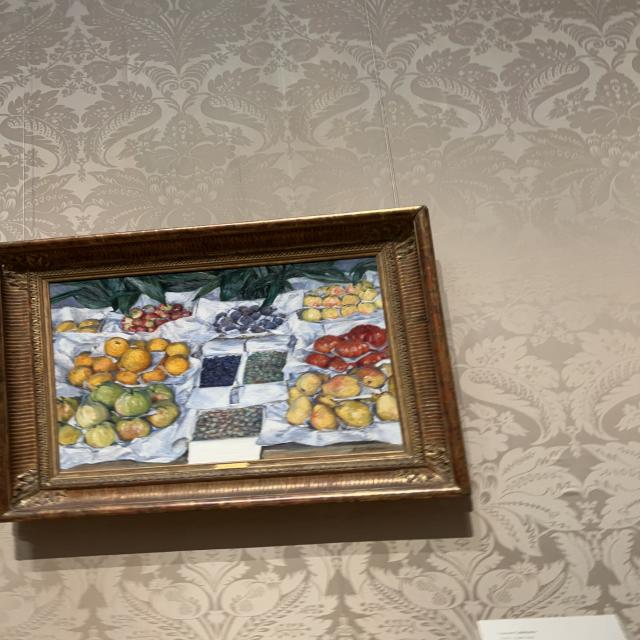fruits: (52, 261, 400, 469)
